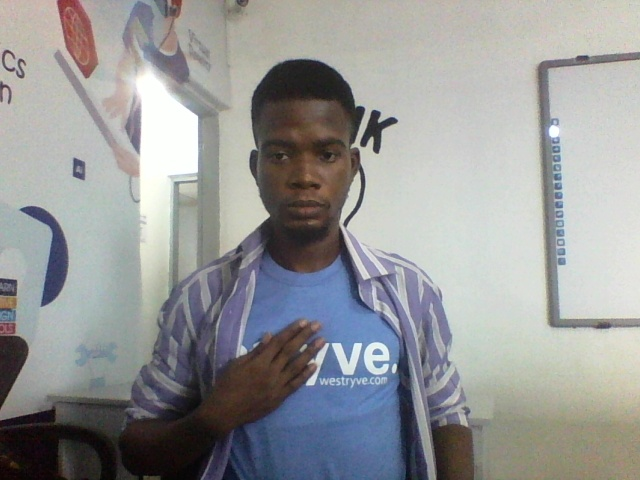please: (176, 320, 344, 446)
